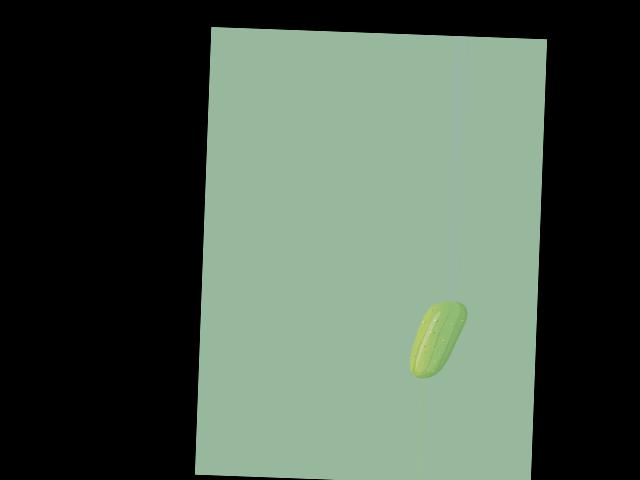cucumber: (409, 299, 468, 379)
